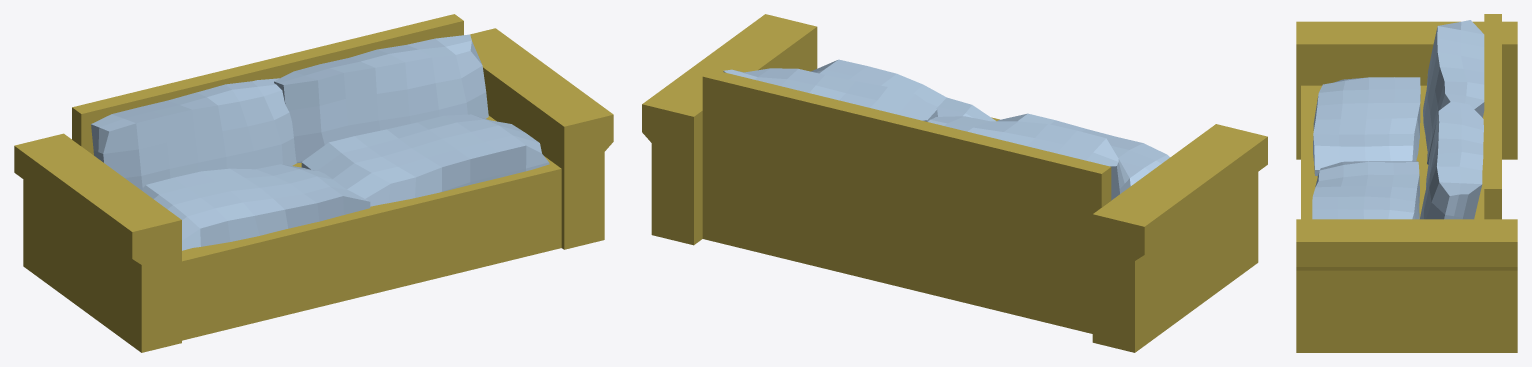
The model's file is sofa.glb.
3 renders of one model, left to right at view 1: azimuth 30°, elevation 25°; view 2: azimuth 150°, elevation 25°; view 3: azimuth 270°, elevation 25°, orthographic. The views are drawn at different scales.
Parts seen in each view (by area): view 1: Cube.011; view 2: Cube.011; view 3: Cube.011.
Boxes of the visible parts, x1,y1,x2,y2 form: Cube.011: (14,14,613,352); Cube.011: (642,14,1267,352); Cube.011: (1296,14,1517,352).
Bounding box in the file's own units: 3.61 × 1.13 × 1.53.
